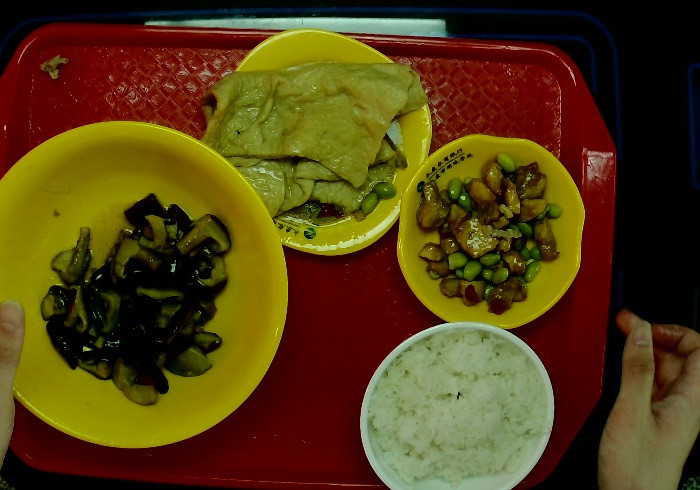YKMZ-Fan_Wan: (356, 320, 557, 490)
YKMZ-Huang_Se_Ao_Bian_Wan: (396, 131, 586, 330)
YKMZ-Huang_Se_Fang_Die: (203, 28, 435, 258)
YKMZ-Huang_Se_Tang_Wan: (1, 117, 291, 449)
